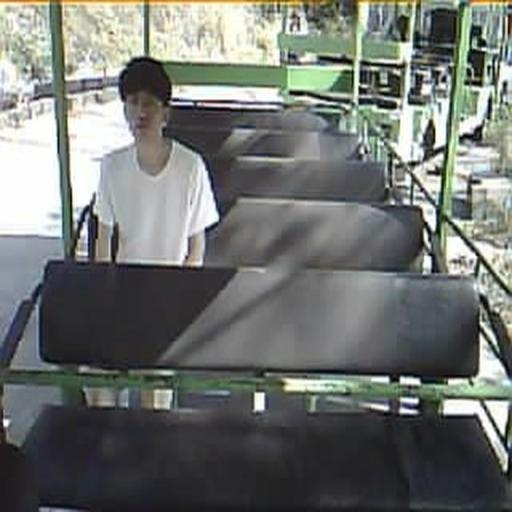persona: (93, 55, 221, 268)
